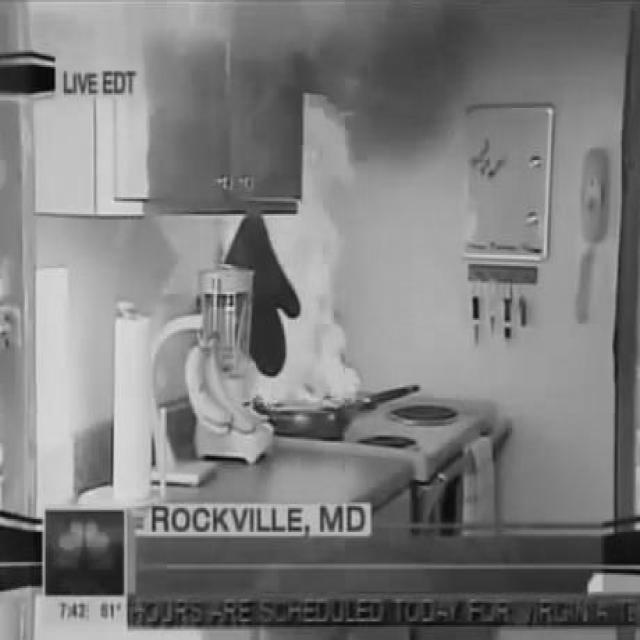fire: (0, 0, 349, 86), (348, 0, 470, 145)
smoke: (209, 94, 366, 416)
